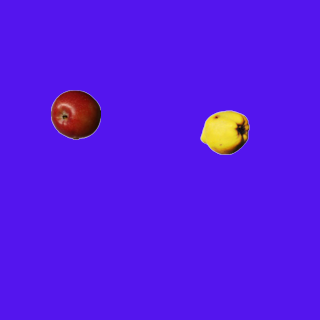Apple Braeburn: (50, 89, 100, 139)
Quince: (199, 107, 249, 157)
